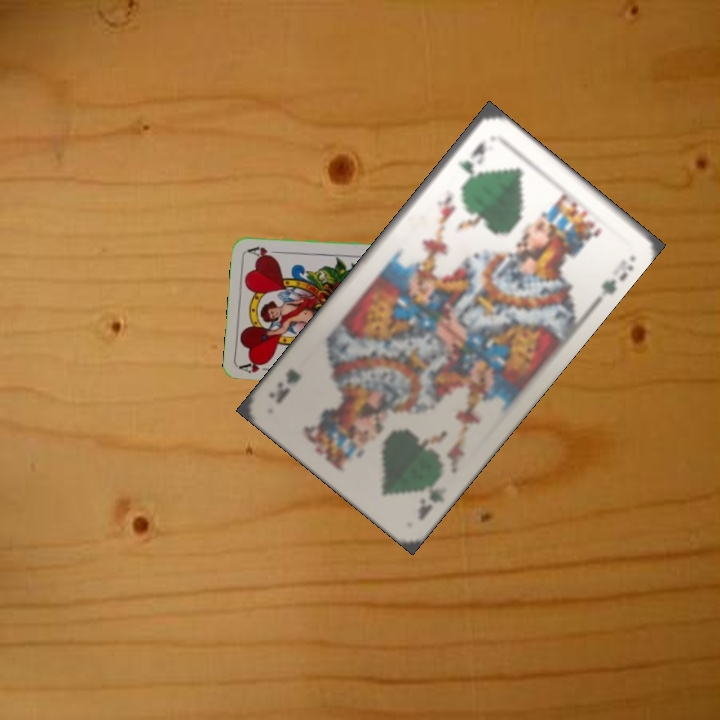GK: (413, 468, 449, 523), (453, 135, 490, 178)
HA: (237, 357, 278, 376)
